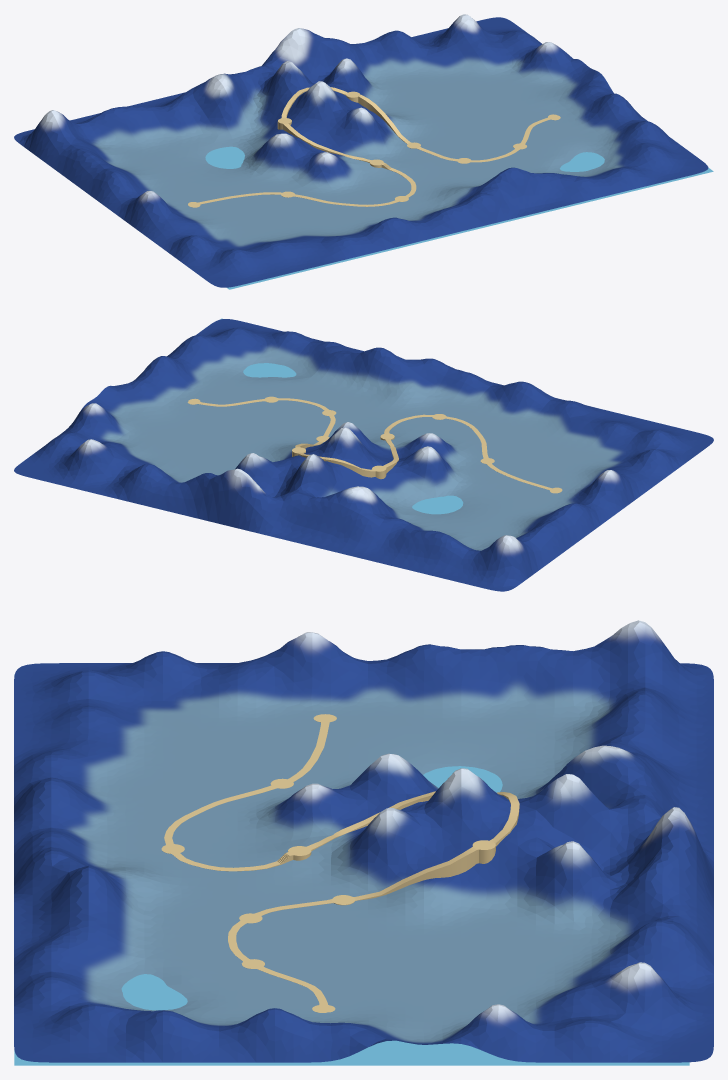
The model's file is path.glb.
3 views of the same model, one above another, from view 1: azimuth 30°, elevation 25°; view 2: azimuth 150°, elevation 25°; view 3: azimuth 270°, elevation 25° (orthographic). The views are drawn at different scales.
Visible parts, largest first — view 1: terrain, path, water; view 2: terrain, path, water; view 3: terrain, water, path.
Boxes of the visible parts, x1=… form: terrain: x1=14, y1=14, x2=708, y2=287; path: x1=188, y1=87, x2=560, y2=207; water: x1=205, y1=146, x2=713, y2=289; terrain: x1=14, y1=319, x2=713, y2=591; path: x1=187, y1=396, x2=562, y2=493; water: x1=220, y1=318, x2=463, y2=514; terrain: x1=14, y1=620, x2=713, y2=1062; water: x1=14, y1=674, x2=689, y2=1065; path: x1=161, y1=714, x2=519, y2=1012.
Size of the model in its own units: 387 by 44.4 by 286.
3 materials, 1 textured.
